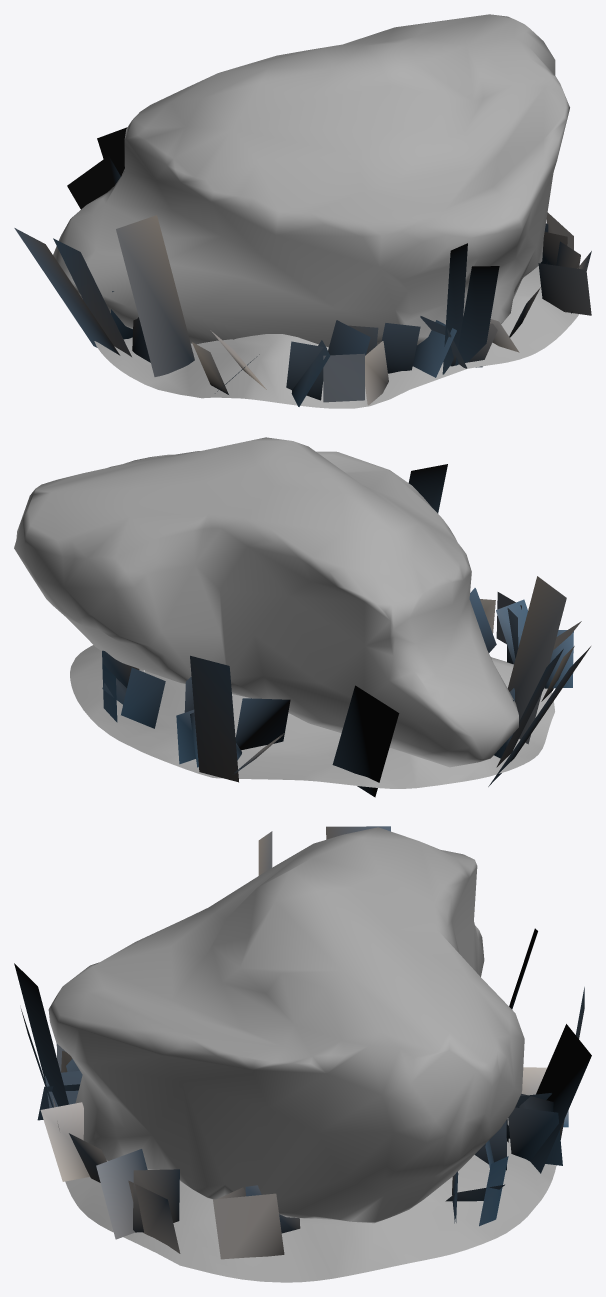
File: FeatureRockFlat.fbx
3 renders of one model, top to bottom at view 1: azimuth 30°, elevation 25°; view 2: azimuth 150°, elevation 25°; view 3: azimuth 270°, elevation 25°, orthographic. The views are drawn at different scales.
Parts seen in each view (by area): view 1: FeatureFlatRock, FeatureFlatTallGrass, FeatureFlatRockGrass, FeatureFlatMud; view 2: FeatureFlatRock, FeatureFlatTallGrass, FeatureFlatMud, FeatureFlatRockGrass; view 3: FeatureFlatRock, FeatureFlatMud, FeatureFlatRockGrass, FeatureFlatTallGrass.
Part boxes in pixels (box(x1,y1,x2,y2)): FeatureFlatRock: box(53, 14, 569, 347); FeatureFlatTallGrass: box(14, 127, 499, 376); FeatureFlatRockGrass: box(111, 212, 591, 406); FeatureFlatMud: box(94, 266, 579, 408); FeatureFlatRock: box(14, 437, 518, 767); FeatureFlatTallGrass: box(190, 464, 590, 797); FeatureFlatMud: box(70, 645, 554, 788); FeatureFlatRockGrass: box(102, 588, 581, 773); FeatureFlatRock: box(48, 827, 524, 1223); FeatureFlatMud: box(65, 1118, 556, 1282); FeatureFlatRockGrass: box(37, 1043, 568, 1259); FeatureFlatTallGrass: box(14, 826, 591, 1173).
Size of the model in its own units: 277 by 130 by 213.
